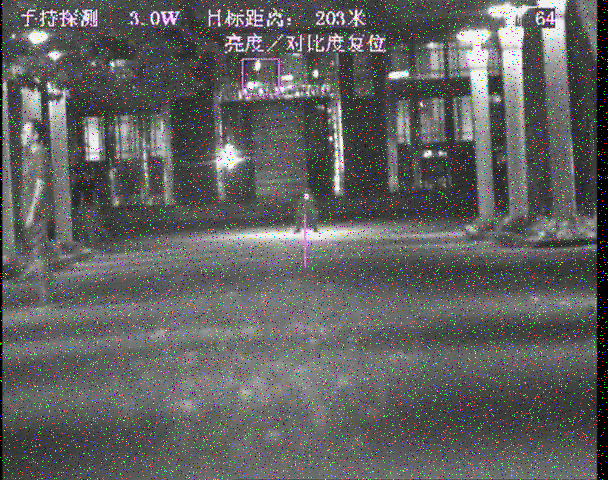my: (303, 193, 310, 200)
